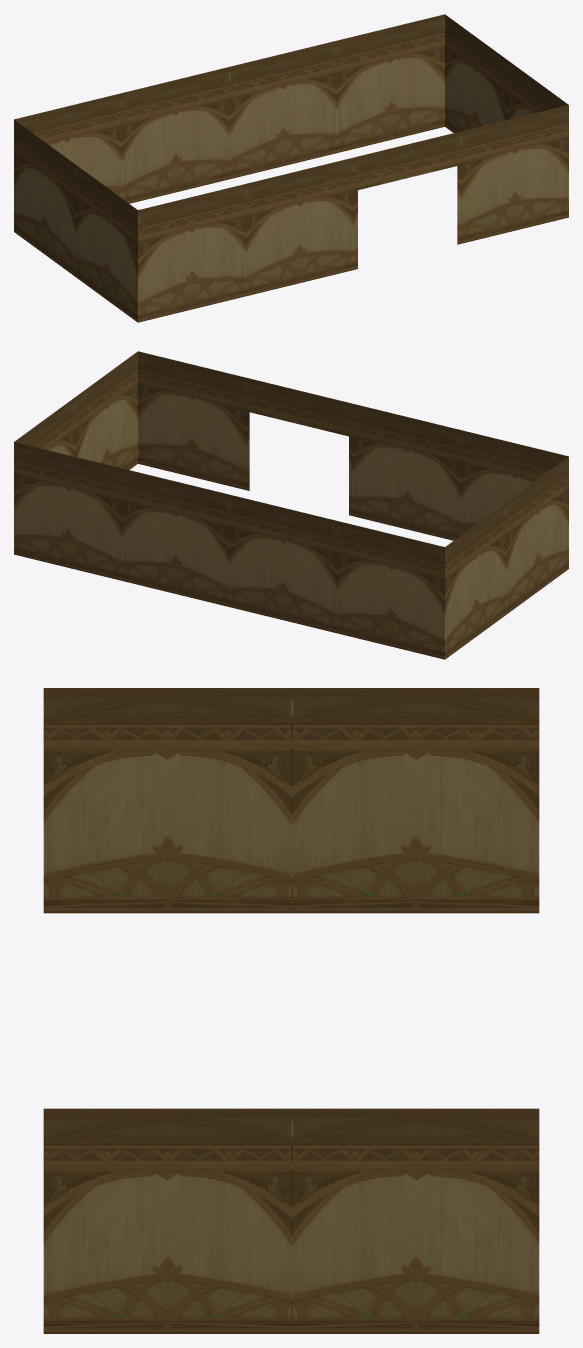
The model's file is Homeworld_Interior_Xm_Room_M_Filling_01_Vo.fbx.
3 views of the same model, one above another, from view 1: azimuth 30°, elevation 25°; view 2: azimuth 150°, elevation 25°; view 3: azimuth 270°, elevation 25° (orthographic). The views are drawn at different scales.
Parts seen in each view (by area): view 1: Homeworld_Interior_Xm_Room_M_Filling_01_Vo; view 2: Homeworld_Interior_Xm_Room_M_Filling_01_Vo; view 3: Homeworld_Interior_Xm_Room_M_Filling_01_Vo.
Boxes of the visible parts, x1,y1,x2,y2 form: Homeworld_Interior_Xm_Room_M_Filling_01_Vo: (14, 14, 568, 322); Homeworld_Interior_Xm_Room_M_Filling_01_Vo: (14, 351, 568, 659); Homeworld_Interior_Xm_Room_M_Filling_01_Vo: (43, 688, 539, 1333).
Size of the model in its own units: 19.96 by 4.98 by 9.95.
